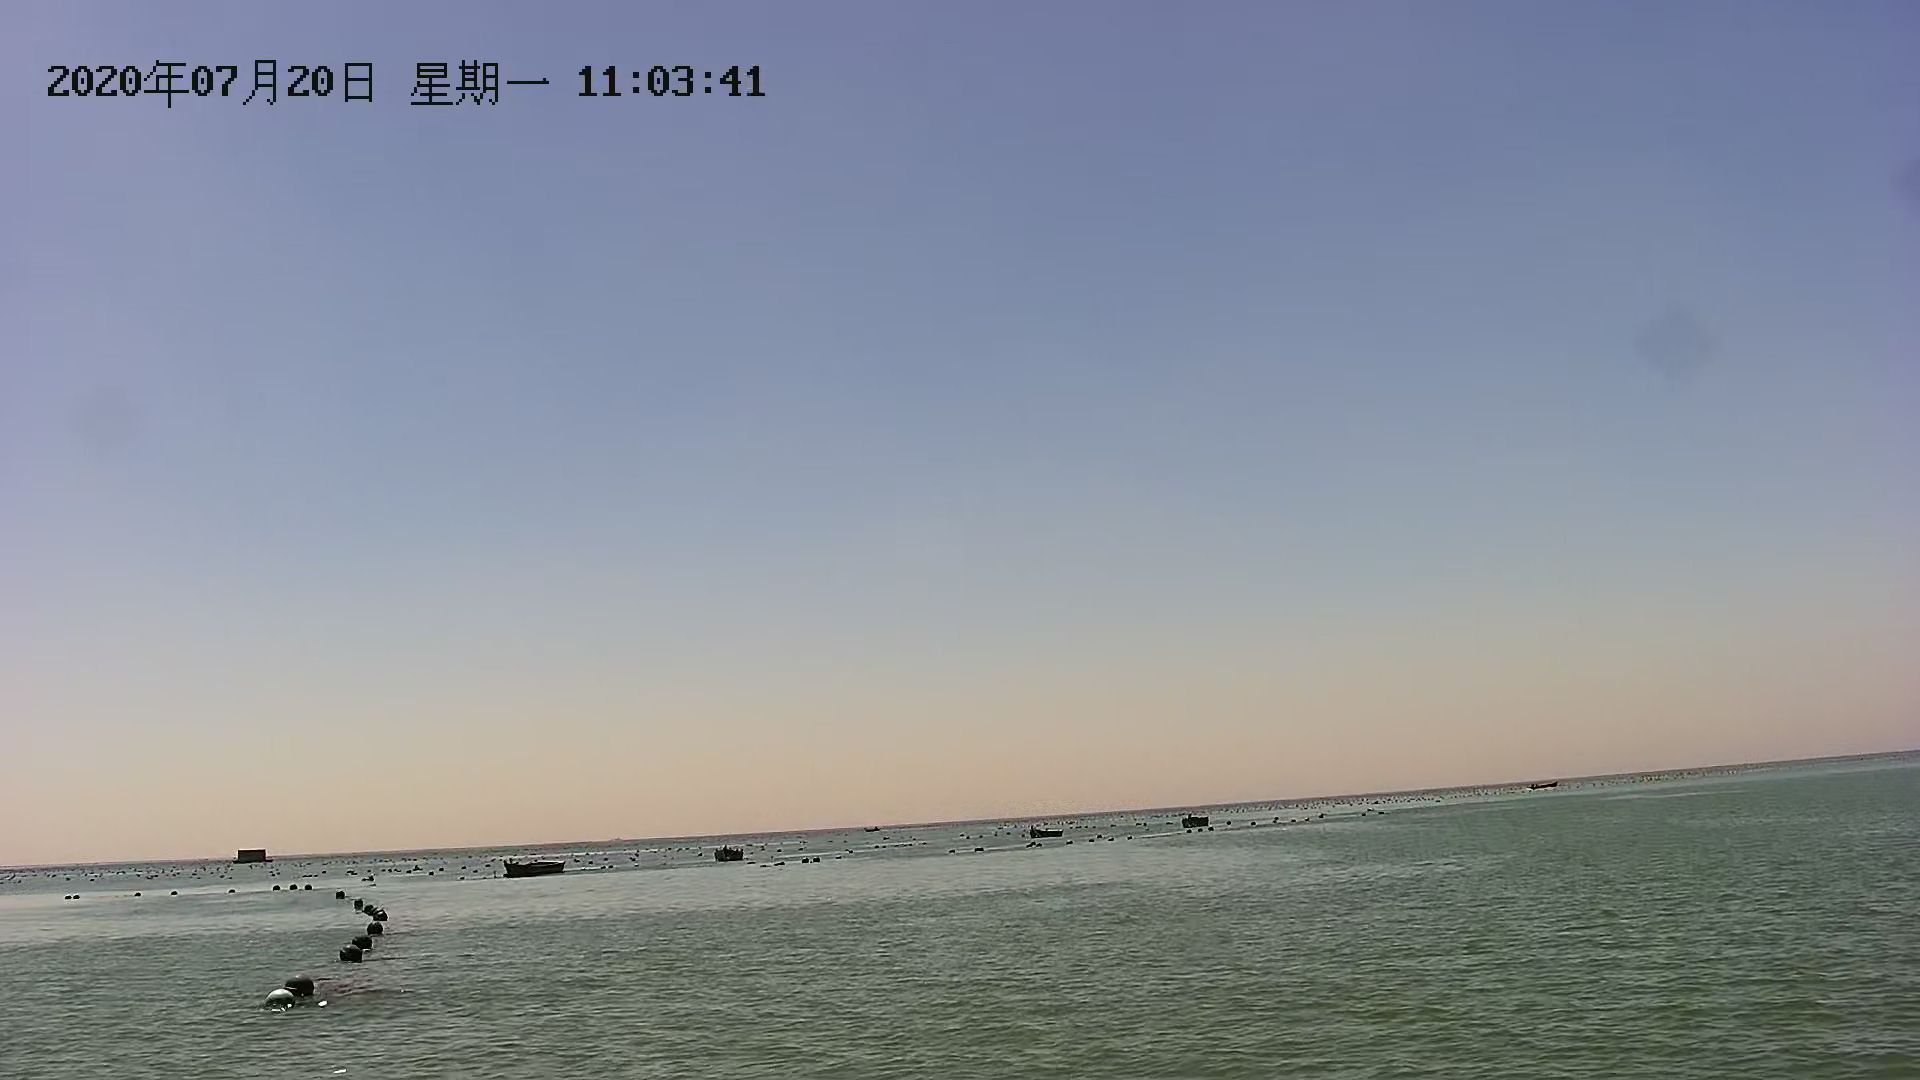ball: (258, 985, 301, 1017), (282, 973, 323, 1000), (334, 942, 371, 968)
boat: (501, 858, 566, 882), (705, 843, 753, 862), (1178, 810, 1215, 832), (1025, 825, 1067, 843)
platform: (225, 845, 274, 864)
